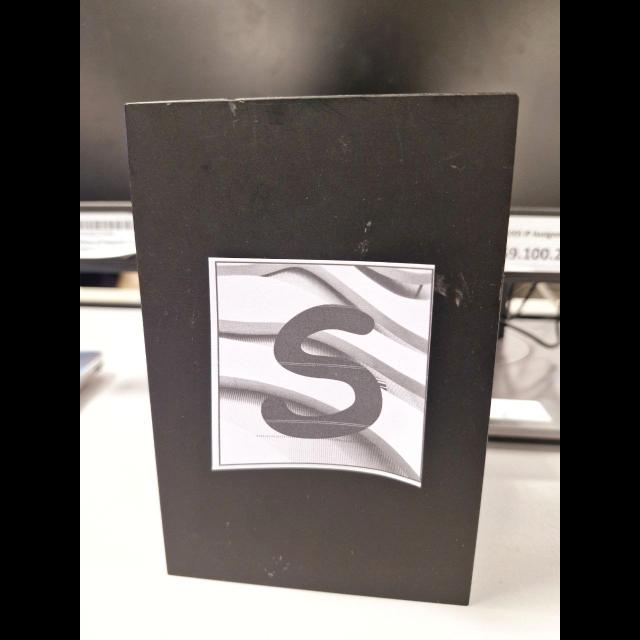S: (260, 305, 382, 438)
